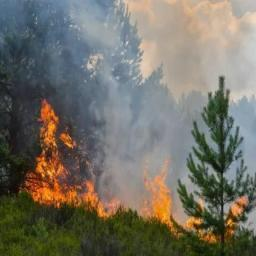Low smoke: (0, 15, 255, 238)
Small fire: (6, 103, 248, 248)
